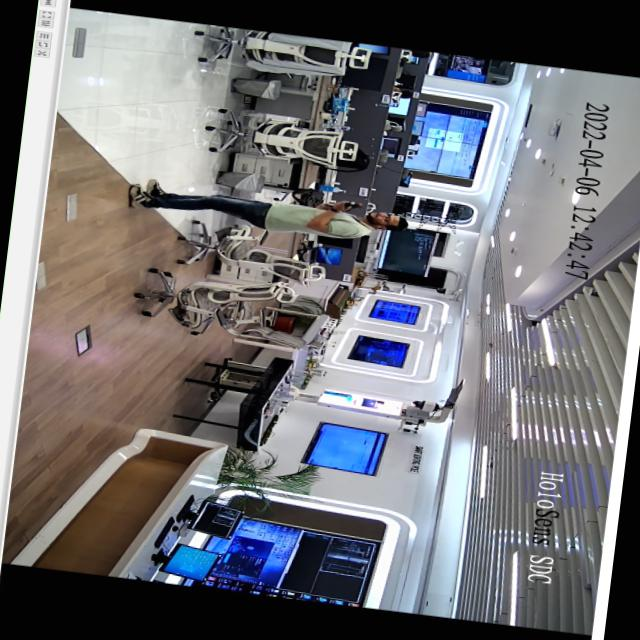long weapon: (320, 190, 370, 216)
